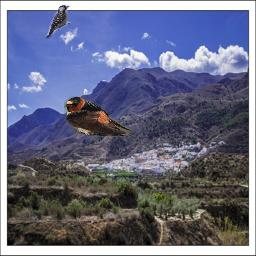Swallow: (64, 96, 133, 137)
Woodpecker: (44, 3, 73, 40)
